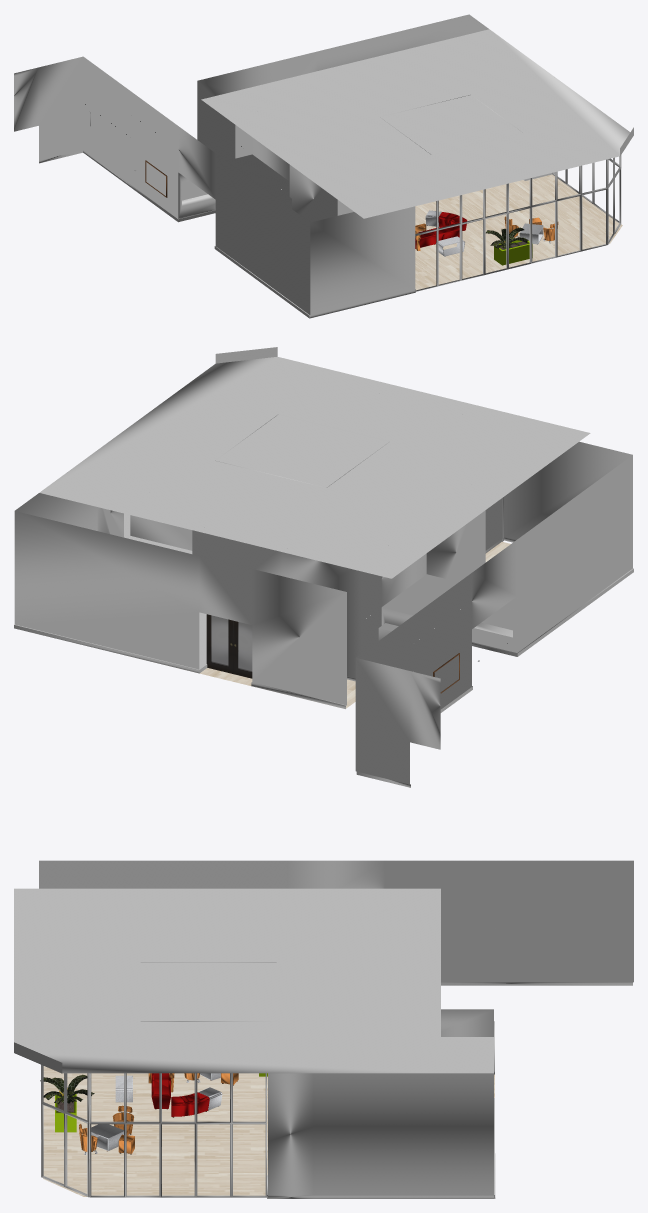
File: lobby.fbx
3 renders of one model, top to bottom at view 1: azimuth 30°, elevation 25°; view 2: azimuth 150°, elevation 25°; view 3: azimuth 270°, elevation 25°, orthographic. The views are drawn at different scales.
Parts seen in each view (by area): view 1: Wallls, Roof, Floor, Chrome, Carpet_03, Carpet_01, Plant_01, Carpet_02, Plant_02; view 2: Wallls, Roof, Door, Floor; view 3: Roof, Wallls, Floor, Chrome, Carpet_03, Carpet_02, Carpet_01, Plant_02, Plant_01.
Part boxes in pixels (bbox=[...]): Wallls: bbox=[14, 14, 554, 318]; Roof: bbox=[201, 29, 633, 218]; Floor: bbox=[415, 174, 622, 290]; Chrome: bbox=[90, 112, 621, 291]; Carpet_03: bbox=[504, 216, 558, 244]; Carpet_01: bbox=[415, 223, 459, 250]; Plant_01: bbox=[494, 240, 532, 265]; Carpet_02: bbox=[425, 210, 467, 230]; Plant_02: bbox=[486, 227, 528, 249]; Wallls: bbox=[14, 441, 633, 787]; Roof: bbox=[39, 347, 590, 578]; Door: bbox=[206, 614, 252, 678]; Floor: bbox=[199, 542, 510, 708]; Roof: bbox=[14, 888, 440, 1073]; Wallls: bbox=[39, 860, 633, 1198]; Floor: bbox=[43, 1066, 494, 1196]; Chrome: bbox=[41, 1065, 266, 1197]; Carpet_03: bbox=[79, 1105, 134, 1154]; Carpet_02: bbox=[171, 1087, 222, 1117]; Carpet_01: bbox=[148, 1073, 174, 1109]; Plant_02: bbox=[40, 1074, 94, 1104]; Plant_01: bbox=[55, 1094, 76, 1132].
Bounding box in the file's own units: 2700 × 667 × 2750.
